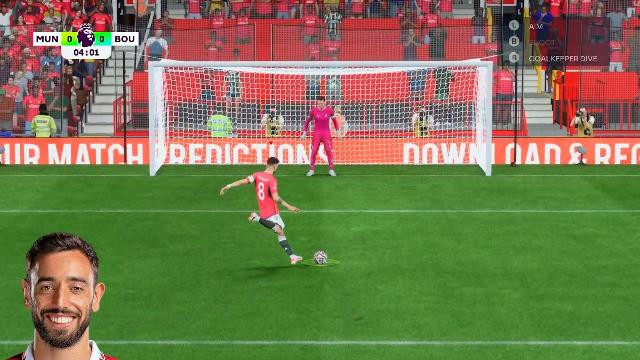circle: (303, 256, 339, 264)
football: (314, 252, 328, 262)
goal-bottom-left: (159, 128, 271, 178)
goal-bottom-right: (374, 128, 486, 178)
goal-middle-down: (272, 128, 372, 178)
goal-middle-up: (271, 69, 371, 127)
goal-top-left: (157, 70, 270, 128)
goal-top-right: (374, 68, 488, 127)
goalkeeper: (302, 95, 341, 177)
player: (218, 147, 300, 267)
